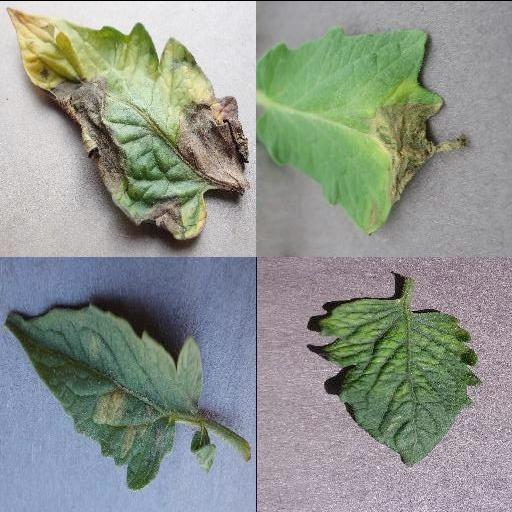Late Blight: (5, 6, 251, 240), (256, 25, 470, 234)
Leaf Mold: (4, 302, 204, 487)
Mosaic Virus: (318, 297, 482, 465)
